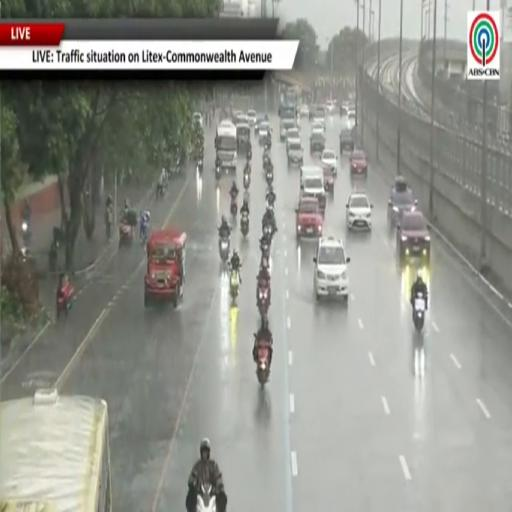bus: (0, 389, 112, 511), (215, 121, 237, 170)
car: (314, 237, 350, 302), (397, 211, 430, 264), (388, 176, 417, 223), (296, 197, 323, 237), (346, 192, 372, 230), (300, 174, 326, 212), (349, 150, 368, 178), (288, 138, 304, 166), (321, 149, 338, 175), (279, 118, 297, 142), (340, 126, 354, 154), (322, 166, 335, 195), (310, 132, 325, 153), (313, 106, 326, 130), (286, 126, 300, 148), (258, 121, 271, 143), (255, 116, 267, 134), (232, 110, 246, 124), (234, 111, 248, 124), (247, 109, 257, 126), (192, 112, 203, 126), (310, 122, 324, 133), (326, 100, 336, 115), (348, 110, 356, 127), (299, 104, 309, 117), (309, 104, 317, 120), (339, 103, 347, 117)
motorcycle: (256, 341, 270, 387), (57, 281, 74, 317), (197, 484, 216, 511), (413, 293, 426, 332), (257, 281, 270, 317), (218, 237, 230, 263), (48, 240, 58, 271), (230, 269, 239, 303), (259, 253, 270, 275), (240, 211, 249, 237), (21, 220, 30, 246), (105, 208, 112, 241), (262, 222, 273, 239), (261, 242, 270, 261), (140, 226, 148, 245), (156, 184, 166, 199), (230, 197, 237, 216), (267, 195, 275, 210), (266, 170, 273, 186), (243, 173, 250, 189), (263, 156, 270, 171), (215, 166, 221, 181), (197, 158, 203, 173), (244, 190, 250, 203), (246, 150, 252, 162)
tricycle: (144, 229, 186, 308), (57, 275, 74, 317), (119, 211, 137, 247)
